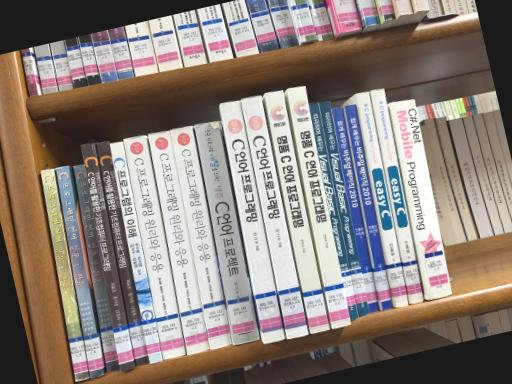book-spine: (241, 95, 308, 339), (220, 100, 285, 343), (265, 89, 329, 333), (287, 86, 350, 328), (194, 121, 260, 344), (123, 134, 185, 360), (170, 125, 232, 349), (148, 130, 209, 356), (390, 99, 451, 299), (95, 141, 149, 366), (81, 142, 134, 371), (110, 141, 162, 363), (371, 89, 423, 303), (357, 91, 408, 307), (319, 100, 369, 317), (309, 102, 358, 320), (40, 169, 89, 382), (56, 166, 103, 377), (332, 107, 379, 313), (345, 104, 392, 310), (73, 164, 119, 371)
